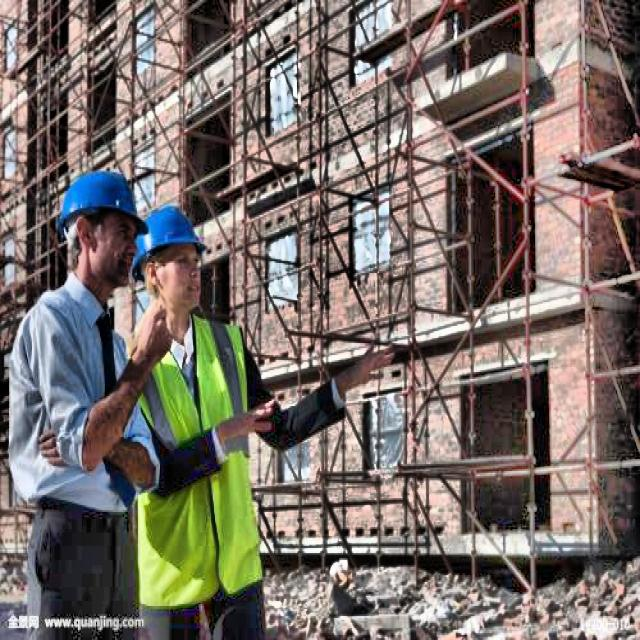helmet: (51, 154, 150, 288), (128, 191, 209, 326)
